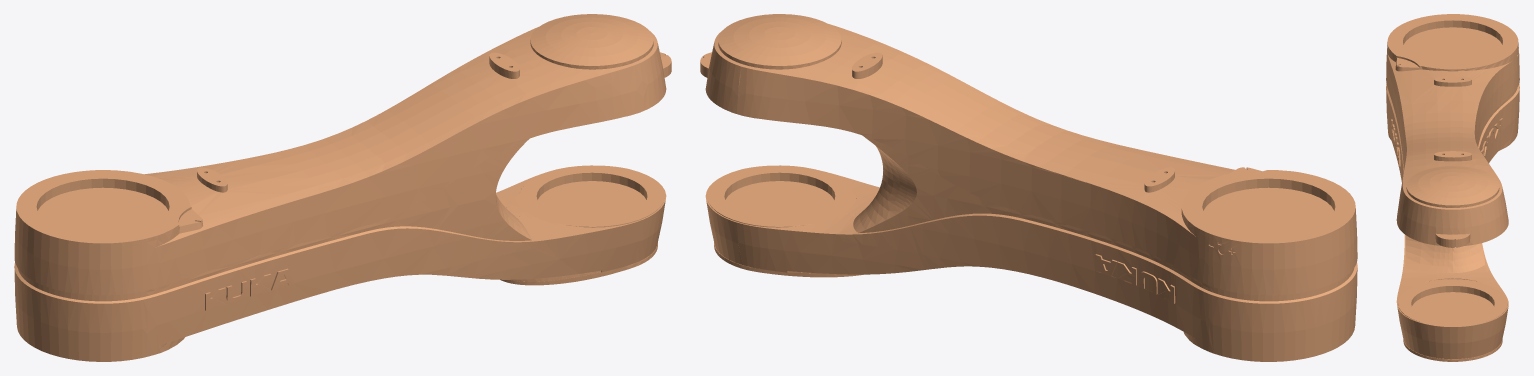
3 views of the same model, side by side, from view 1: azimuth 30°, elevation 25°; view 2: azimuth 150°, elevation 25°; view 3: azimuth 270°, elevation 25° (orthographic). The views are drawn at different scales.
Parts seen in each view (by area): view 1: /Link2/Link2-mesh/0; view 2: /Link2/Link2-mesh/0; view 3: /Link2/Link2-mesh/0.
Part boxes in pixels (x1,y1,x2,y2): /Link2/Link2-mesh/0: (14, 14, 671, 361); /Link2/Link2-mesh/0: (700, 14, 1357, 361); /Link2/Link2-mesh/0: (1386, 14, 1519, 361).
Size of the model in its own units: 0.7355 by 0.249 by 0.176.
